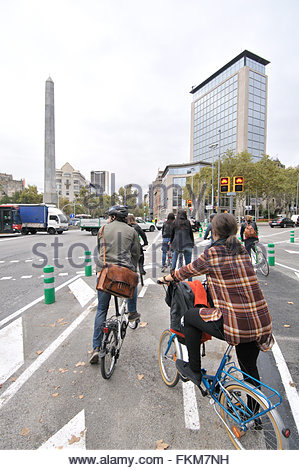bikerider: (158, 207, 281, 446), (77, 200, 143, 391), (238, 209, 272, 274)
